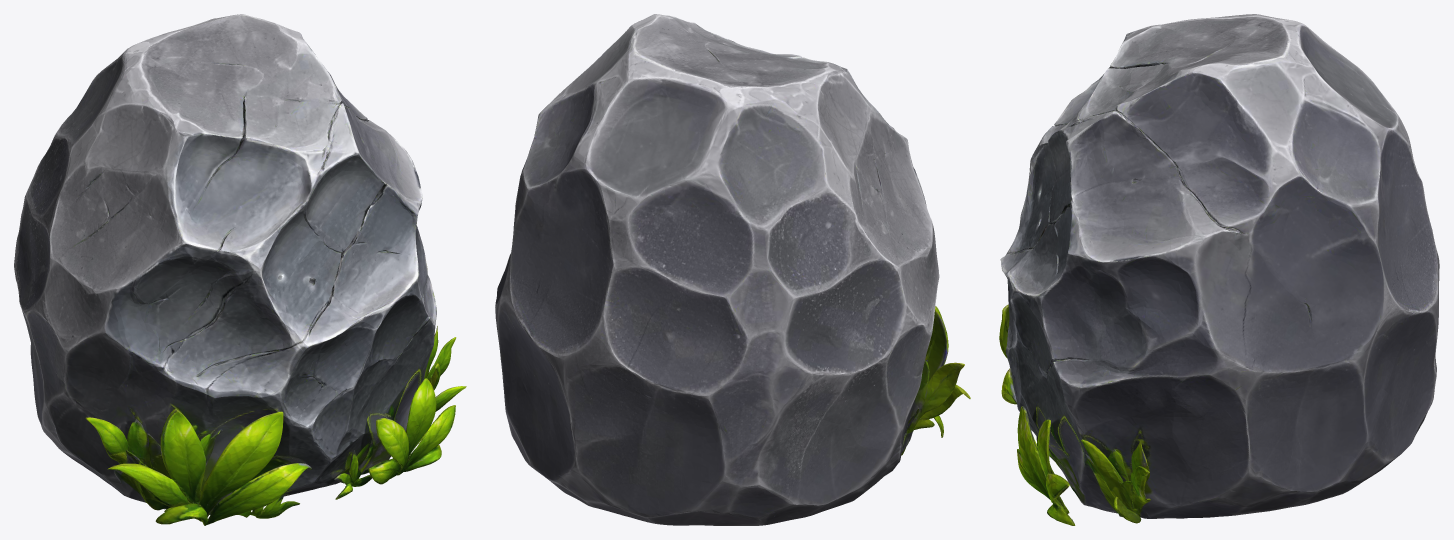
File: rock.fbx
3 views of the same model, side by side, from view 1: azimuth 30°, elevation 25°; view 2: azimuth 150°, elevation 25°; view 3: azimuth 270°, elevation 25° (orthographic). The views are drawn at different scales.
Visible parts, largest first — view 1: world; view 2: world; view 3: world.
Boxes of the visible parts, x1,y1,x2,y2 form: world: [14, 14, 466, 525]; world: [495, 14, 970, 525]; world: [999, 14, 1439, 525].
Size of the model in its own units: 199 by 199 by 185.
